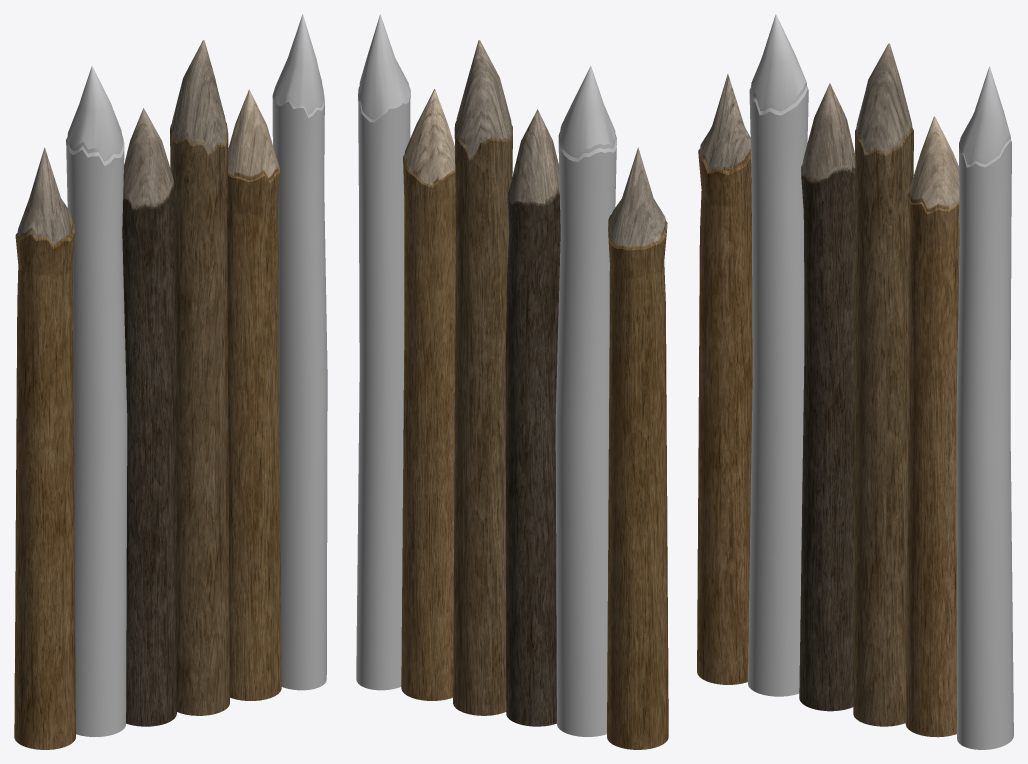
File: SPIKES.fbx
3 renders of one model, left to right at view 1: azimuth 30°, elevation 25°; view 2: azimuth 150°, elevation 25°; view 3: azimuth 330°, elevation 25°, orthographic.
Visible parts, largest first — view 1: Cylinder, Cylinder.002, Cylinder.003, Cylinder.004, Cylinder.001, Cylinder.005; view 2: Cylinder, Cylinder.002, Cylinder.003, Cylinder.005, Cylinder.001, Cylinder.004; view 3: Cylinder.004, Cylinder, Cylinder.002, Cylinder.001, Cylinder.003, Cylinder.005.
Part boxes in pixels (left/top/right/bottom): Cylinder: left=170, top=40, right=229, bottom=715; Cylinder.002: left=66, top=66, right=127, bottom=736; Cylinder.003: left=14, top=147, right=75, bottom=749; Cylinder.004: left=272, top=14, right=327, bottom=690; Cylinder.001: left=122, top=108, right=177, bottom=726; Cylinder.005: left=227, top=89, right=281, bottom=700; Cylinder: left=453, top=40, right=512, bottom=715; Cylinder.002: left=555, top=66, right=616, bottom=736; Cylinder.003: left=607, top=147, right=668, bottom=749; Cylinder.005: left=401, top=89, right=455, bottom=700; Cylinder.001: left=505, top=109, right=560, bottom=726; Cylinder.004: left=356, top=14, right=410, bottom=690; Cylinder.004: left=956, top=66, right=1013, bottom=749; Cylinder: left=853, top=43, right=913, bottom=726; Cylinder.002: left=748, top=14, right=808, bottom=696; Cylinder.001: left=799, top=83, right=855, bottom=711; Cylinder.003: left=697, top=74, right=752, bottom=684; Cylinder.005: left=905, top=116, right=959, bottom=737.
Size of the model in its own units: 1134 by 2369 by 209.
